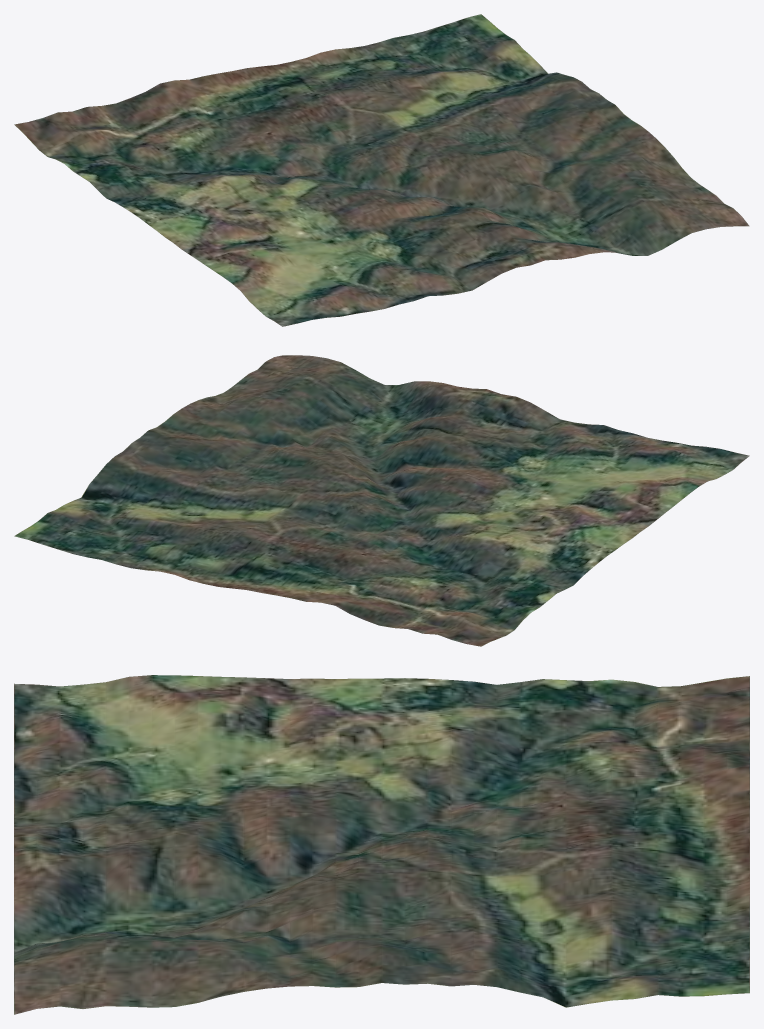
The picture shows the model from 3 angles, top to bottom: view 1: azimuth 30°, elevation 25°; view 2: azimuth 150°, elevation 25°; view 3: azimuth 270°, elevation 25°; orthographic projection. The views are drawn at different scales.
Size of the model in its own units: 3898 by 235 by 3881.
1 material, 1 textured.
